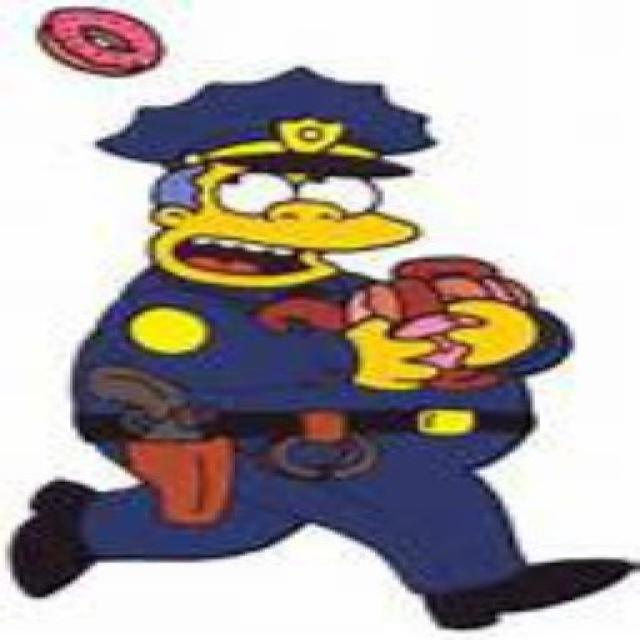Chief Wiggam: (91, 68, 449, 294)
